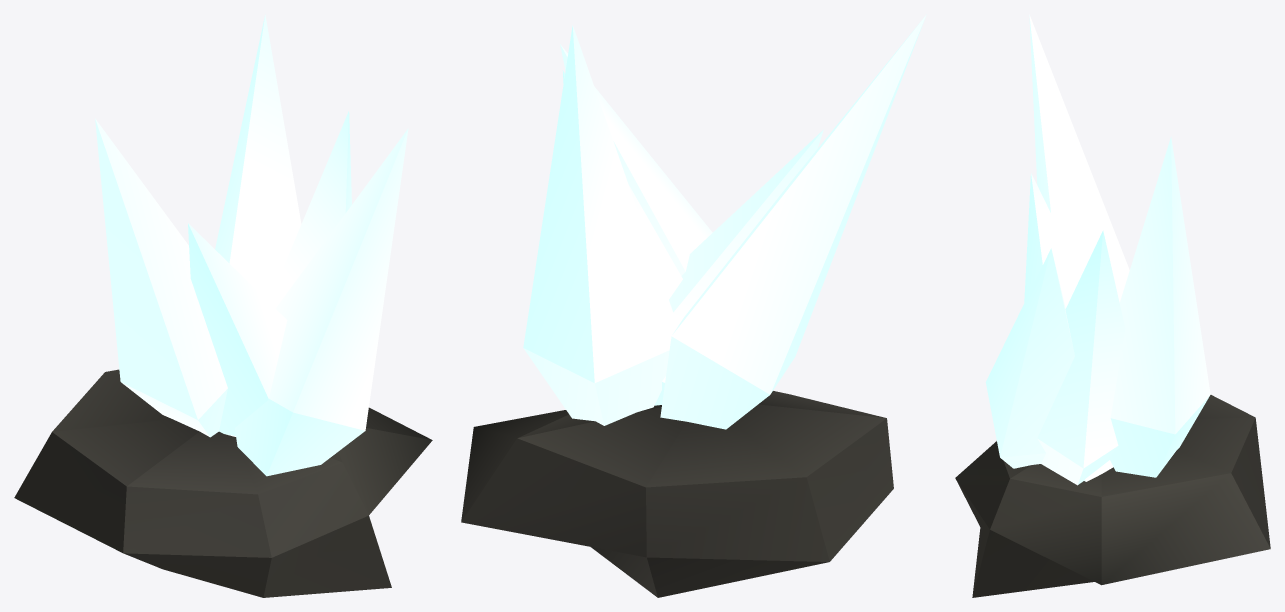
Rendered from crystal.glb.
3 renders of one model, left to right at view 1: azimuth 30°, elevation 25°; view 2: azimuth 150°, elevation 25°; view 3: azimuth 270°, elevation 25°, orthographic. The views are drawn at different scales.
Visible parts, largest first — view 1: crystal; view 2: crystal; view 3: crystal.
Part boxes in pixels (x1,y1,x2,y2): crystal: (14, 15, 432, 597); crystal: (461, 14, 926, 597); crystal: (955, 14, 1270, 597).
Size of the model in its own units: 0.408 by 0.5377 by 0.3244.
